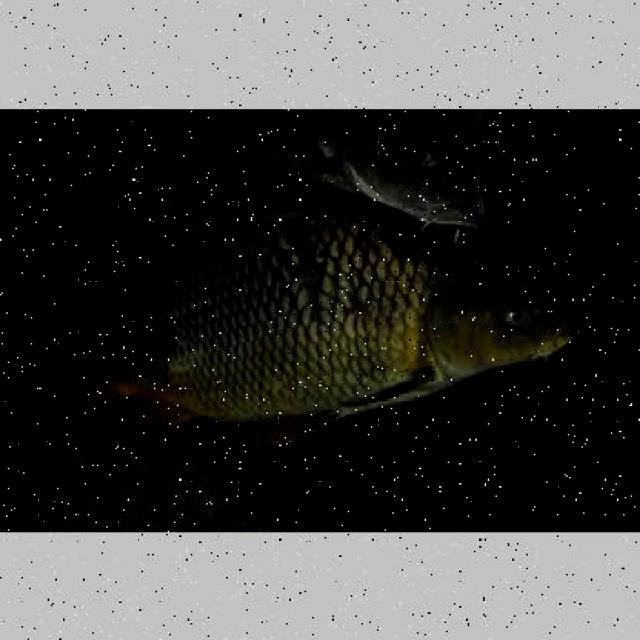ikan-mas: (49, 202, 576, 435), (213, 108, 513, 218)
